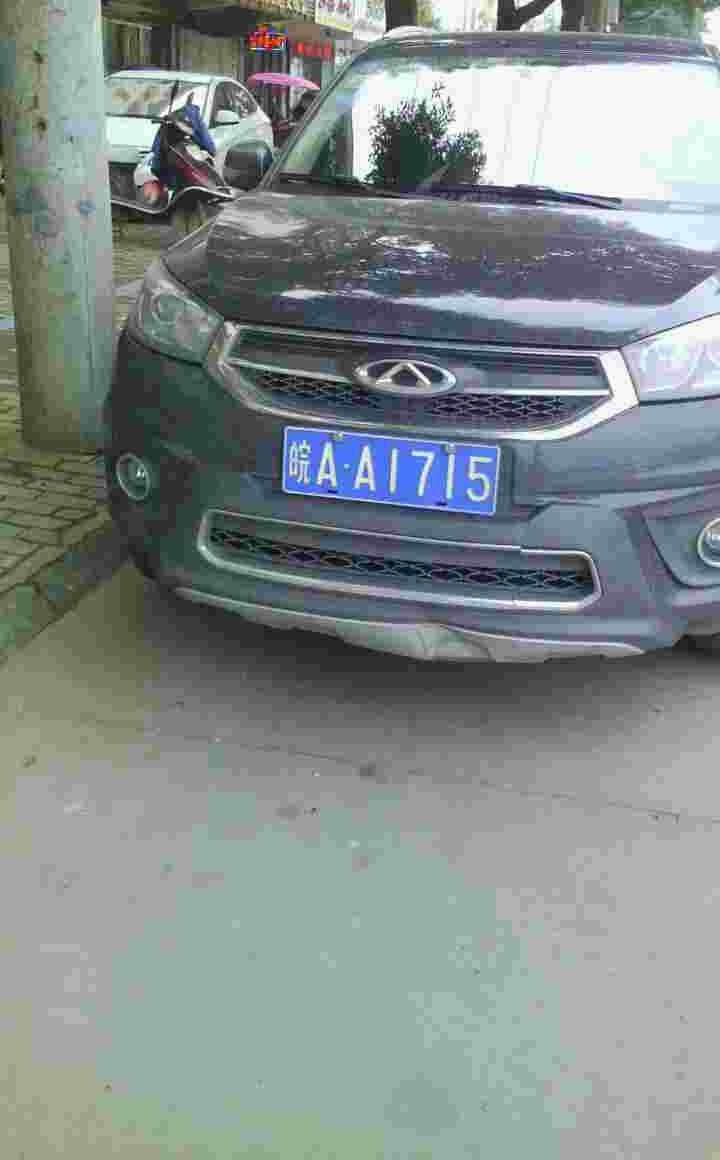plate: (280, 422, 504, 519)
